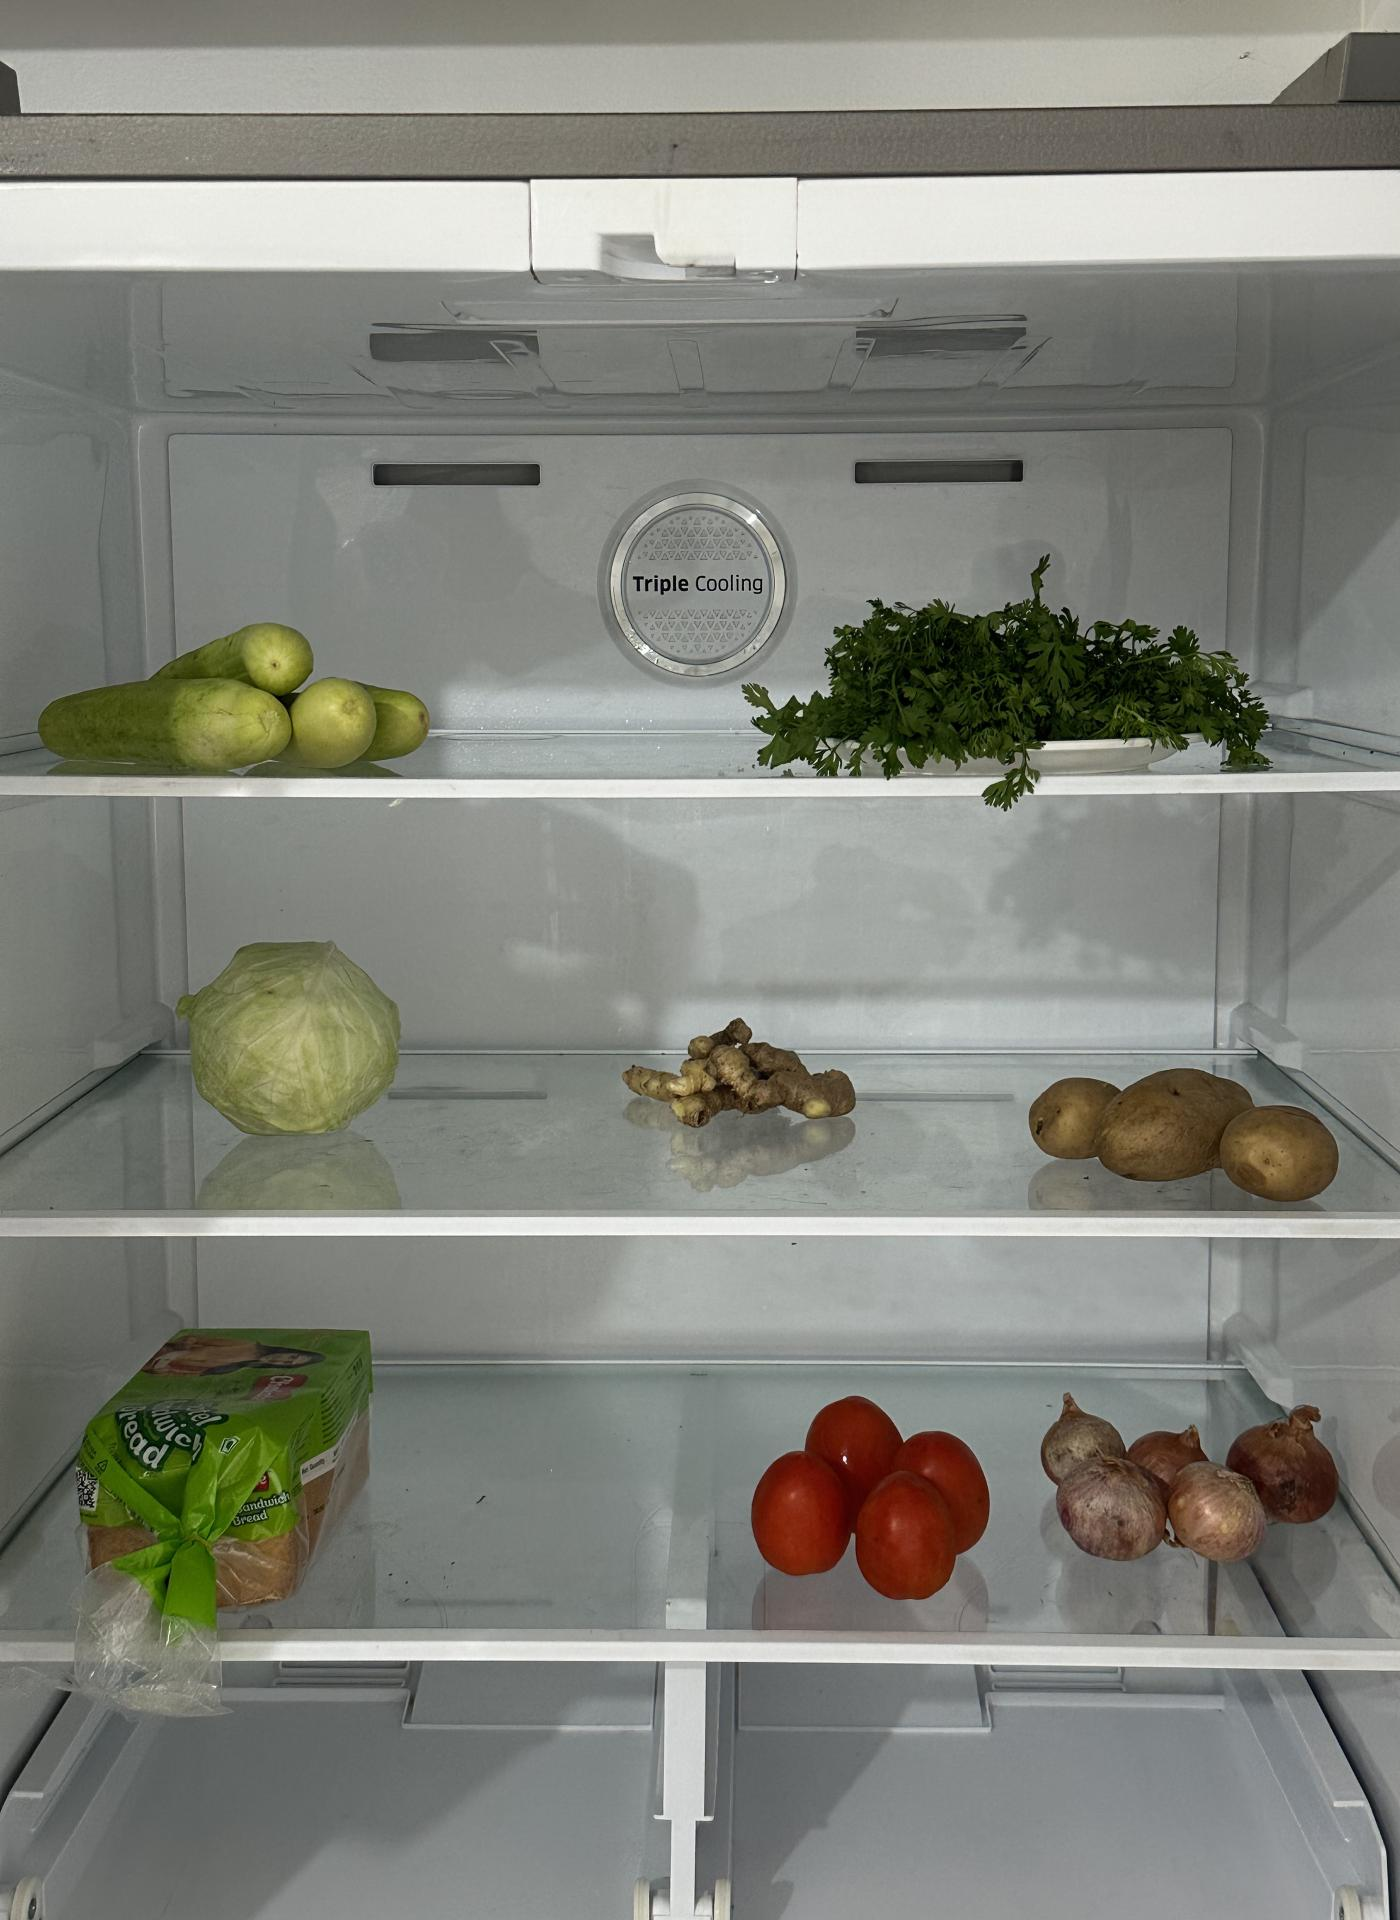bread: (69, 1313, 392, 1614)
cabbage: (173, 935, 395, 1134)
coriander: (796, 595, 1264, 771)
cucumber: (39, 619, 435, 780)
ginger: (629, 1018, 857, 1133)
potato: (1030, 1064, 1333, 1200)
tomato: (1038, 1388, 1340, 1570), (748, 1397, 990, 1597)
